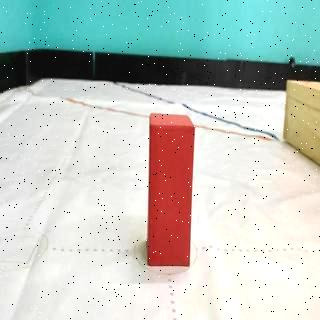redbox: (147, 114, 195, 266)
